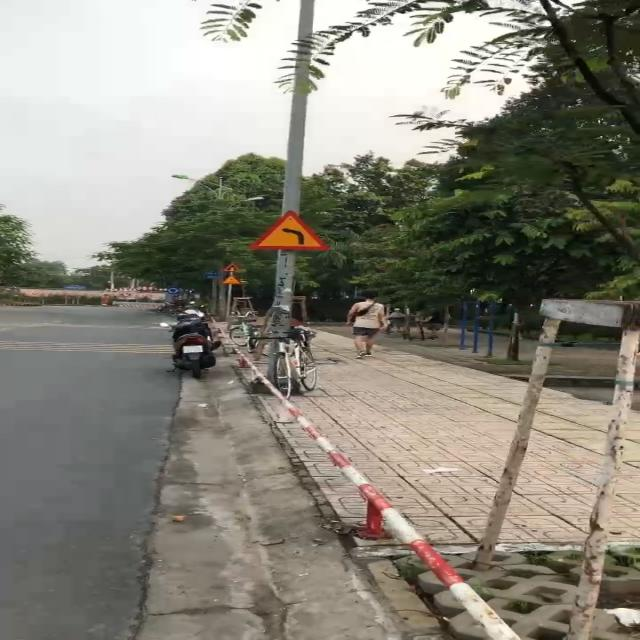Bien bao cho ngoat nguy hiem: (242, 207, 330, 250)
